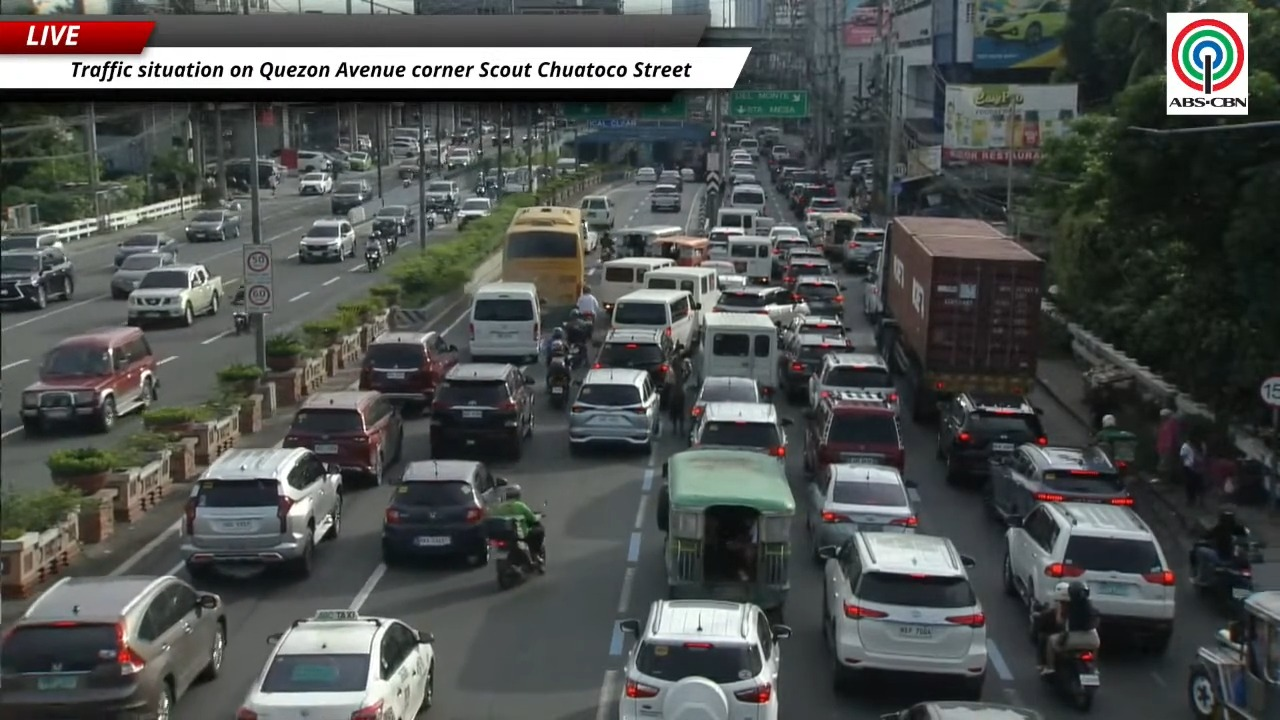bus: (502, 206, 586, 308)
car: (0, 575, 227, 719), (819, 531, 987, 699), (1002, 502, 1176, 654), (236, 609, 435, 719), (180, 447, 343, 578), (619, 599, 790, 719), (20, 327, 158, 434), (381, 460, 506, 565), (984, 442, 1133, 521), (282, 390, 403, 485), (806, 463, 917, 558), (429, 362, 534, 459), (937, 393, 1047, 482), (803, 393, 905, 472), (568, 368, 660, 451), (358, 331, 458, 406), (592, 328, 678, 401), (689, 402, 791, 462), (778, 333, 851, 401), (809, 352, 897, 408), (0, 247, 74, 308), (711, 285, 807, 325), (982, 0, 1066, 45), (110, 253, 177, 299), (882, 700, 1043, 719), (690, 376, 762, 417), (298, 219, 356, 263), (790, 275, 844, 316), (771, 235, 821, 278), (114, 233, 176, 267), (842, 227, 884, 271), (783, 253, 834, 289), (185, 209, 240, 242), (781, 314, 848, 339), (330, 180, 372, 215), (775, 238, 824, 266), (372, 205, 415, 236), (0, 230, 63, 251), (456, 197, 492, 228), (580, 195, 614, 227), (649, 184, 681, 212), (425, 180, 459, 206), (296, 150, 332, 172), (299, 173, 332, 195), (444, 147, 476, 169), (805, 197, 844, 214), (389, 138, 420, 158), (769, 225, 806, 241), (396, 157, 420, 179), (657, 170, 682, 191), (346, 152, 372, 171), (718, 275, 748, 291), (634, 167, 657, 183), (730, 171, 758, 184), (770, 144, 789, 161), (679, 167, 696, 182)
motorcycle: (1189, 530, 1262, 616), (1041, 632, 1100, 711), (489, 518, 545, 590), (547, 359, 571, 409), (365, 244, 383, 272), (567, 343, 586, 369), (232, 309, 249, 335), (439, 201, 454, 224), (384, 234, 399, 254), (601, 244, 615, 261), (473, 180, 487, 195), (426, 210, 435, 230), (457, 216, 469, 231), (402, 177, 412, 187)
truck: (876, 216, 1044, 421), (127, 264, 224, 326)
